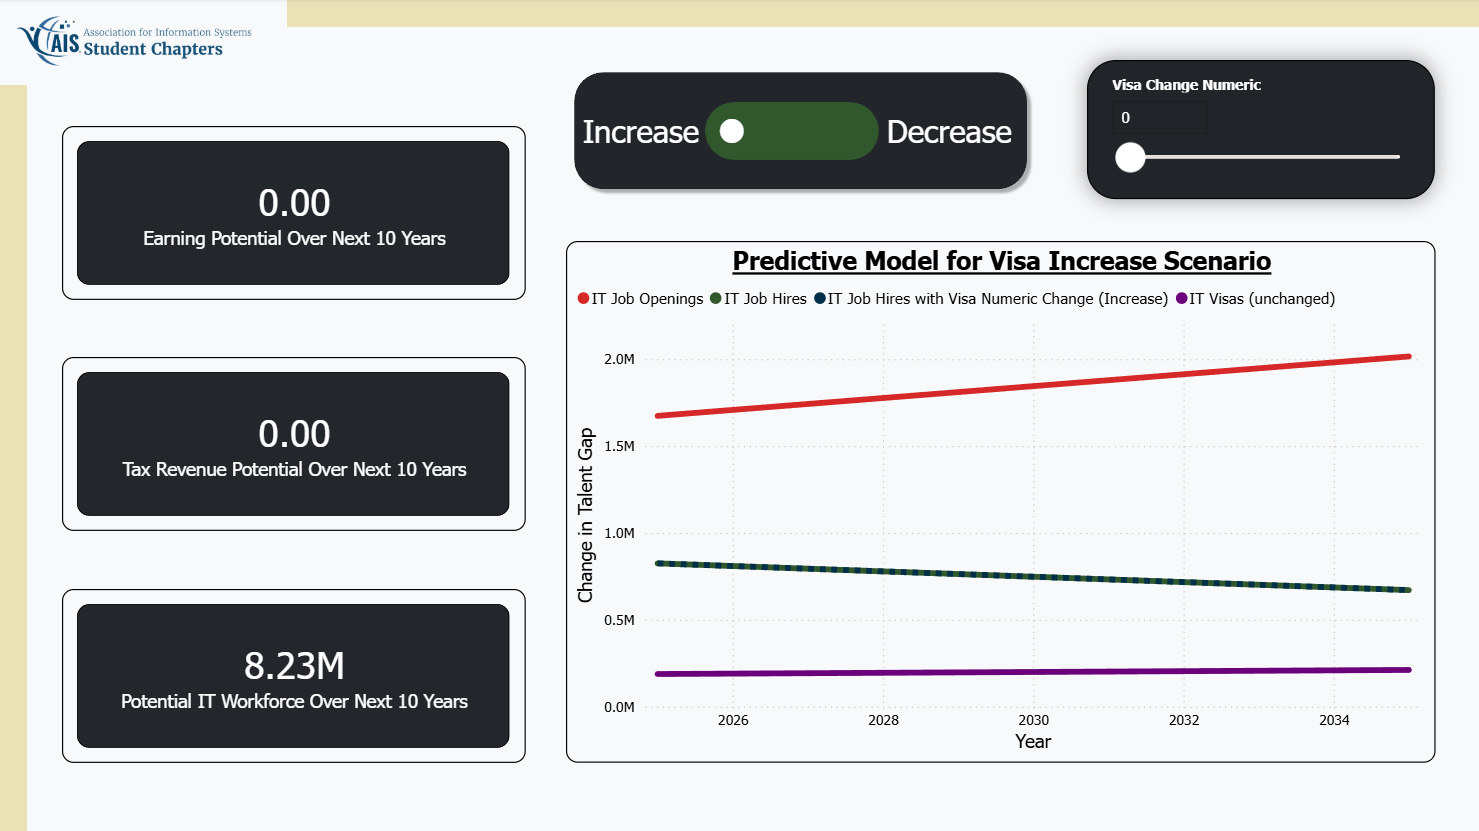

What the dashboard file says about the page in this screenshot:
{"tool":"powerbi","page":{"name":"Predictive Model","canvas":[1280,720],"ordinal":8},"visuals":[{"type":"lineChart","title":"Predictive Model for Visa Increase Scenario","fields":{"Category":["aissclc itopenshiresfuture.Year"],"Y":["Sum(aissclc itopenshiresfuture.Openings)","Sum(aissclc itopenshiresfuture.Hires)","aissclc itopenshiresfuture.HiresWVisa","Sum(aissclc itopenshiresfuture.ITVisas)"]},"box":[490,210,750,450],"z":1000},{"type":"image","box":[0,0,249.4,75.3],"z":2000},{"type":"shape","box":[249.4,0,1031,25.4],"z":3000},{"type":"shape","box":[0,75.3,25.4,644.7],"z":4000},{"type":"shape","box":[490.2,57,404.7,115],"z":5000},{"type":"cardVisual","title":"(Increase) Hires w/ Visa Information","fields":{"Data":["aissclc itopenshiresfuture.Hires w/ Visa Information (Increase)"]},"box":[55.5,510,400,150],"z":7000},{"type":"cardVisual","title":"(Increase) Earning Potential","fields":{"Data":["aissclc itopenshiresfuture.Earning Potential (Increase)"]},"box":[55,110,399.8,150.3],"z":8000},{"type":"cardVisual","title":"(Increase) Tax Revenue Potential","fields":{"Data":["aissclc itopenshiresfuture.Tax Rev. Potential"]},"box":[55,310,399.8,150.3],"z":9000},{"type":"bookmarkNavigator","box":[610,90,150.3,50.1],"z":12000},{"type":"slicer","fields":{"Values":["Parameter.Parameter"]},"box":[939.5,53.5,300,119.8],"z":13000}]}

Visuals, with their boxes in screenshot pixels (x1, y1, x2, y2), scaled from the page's 1280x720 canvas onto the 1479x831 screenshot:
"Predictive Model for Visa Increase Scenario" lineChart: {"left": 566, "top": 242, "right": 1433, "bottom": 762}
image: {"left": 0, "top": 0, "right": 288, "bottom": 87}
shape: {"left": 288, "top": 0, "right": 1478, "bottom": 29}
shape: {"left": 0, "top": 87, "right": 29, "bottom": 830}
shape: {"left": 566, "top": 66, "right": 1034, "bottom": 199}
"(Increase) Hires w/ Visa Information" cardVisual: {"left": 64, "top": 589, "right": 526, "bottom": 762}
"(Increase) Earning Potential" cardVisual: {"left": 64, "top": 127, "right": 526, "bottom": 300}
"(Increase) Tax Revenue Potential" cardVisual: {"left": 64, "top": 358, "right": 526, "bottom": 531}
bookmarkNavigator: {"left": 705, "top": 104, "right": 879, "bottom": 162}
slicer - Parameter.Parameter: {"left": 1086, "top": 62, "right": 1432, "bottom": 200}
